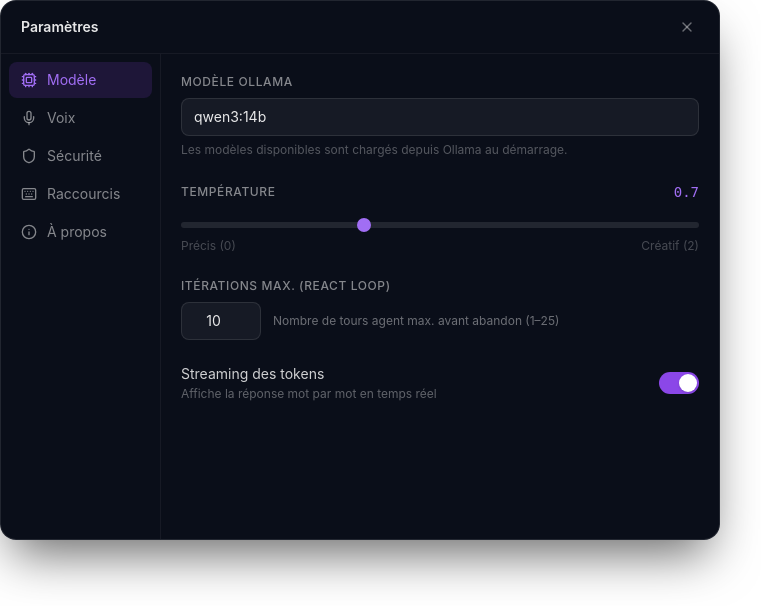
Test: SettingsWindow › l'onglet Sécurité montre le mode sans danger et le catalogue des outils
Click the button "Sécurité": x=80, y=156 [9,138,152,174]
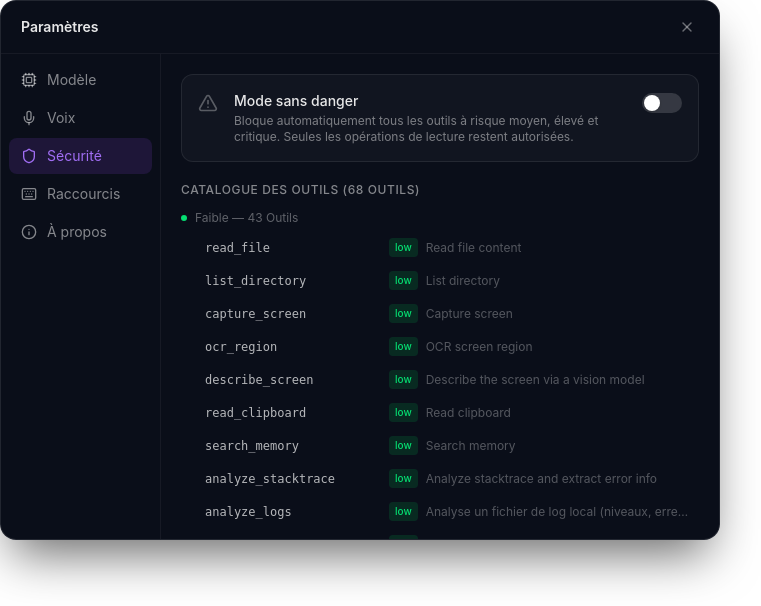
Check: the text "Mode sans danger" is shown, box [234,92,358,109]
Check: the text "Catalogue des outils (68 outils)" is shown, box [181,182,420,197]
